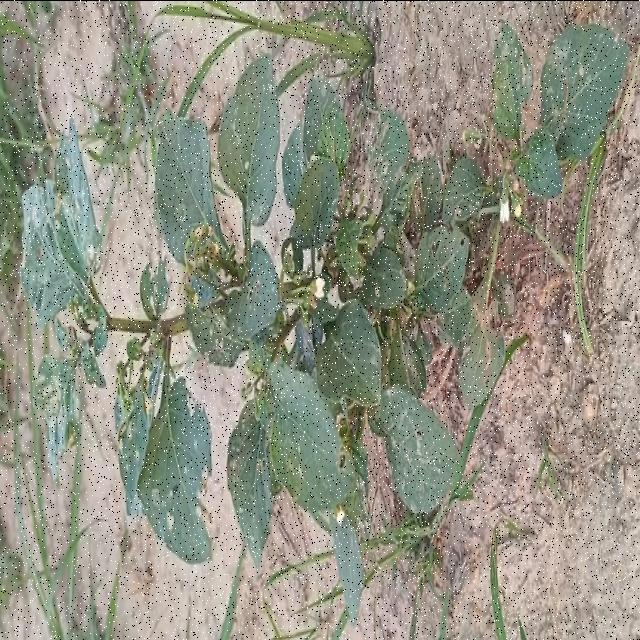weed: (21, 24, 628, 622)
